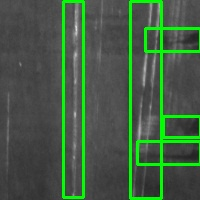inclusion: (137, 141, 200, 164), (145, 28, 200, 51), (163, 116, 200, 137)
scratches: (130, 1, 161, 198), (63, 1, 83, 197)
